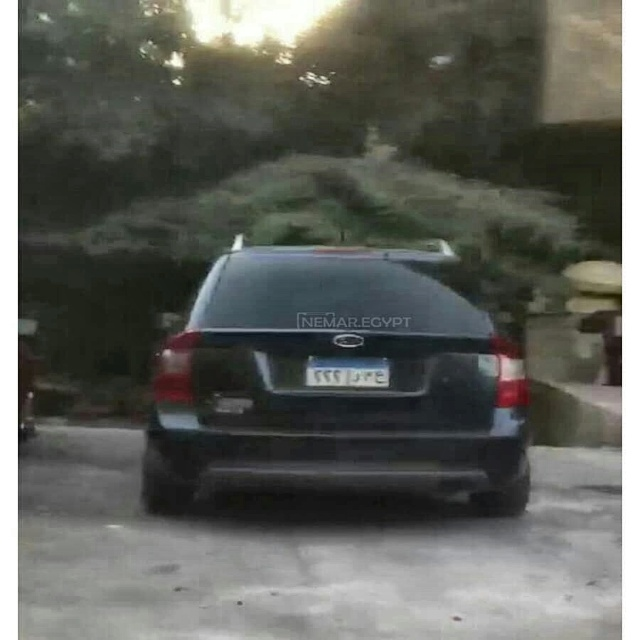License Plate: (304, 353, 393, 388)
